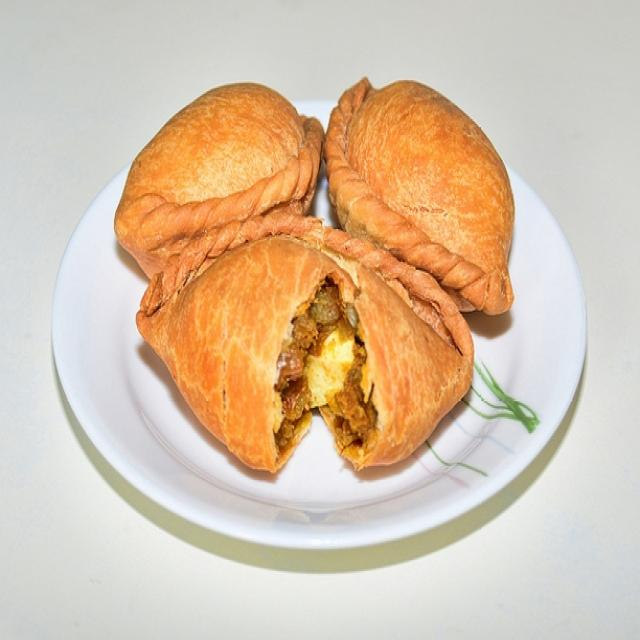炸货点心: (60, 50, 571, 554)
